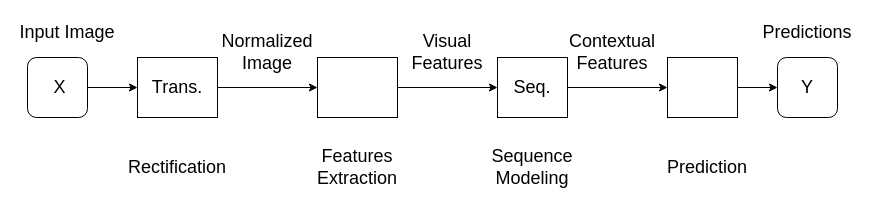
The diagram is 874 pixels wide and 214 high, and some of its shapes have lost their labels. Here are the shapes that lost their labels. From the top down, the centre of each, then its label:
the point at 357,87: Feats.
the point at 702,87: Pred.
